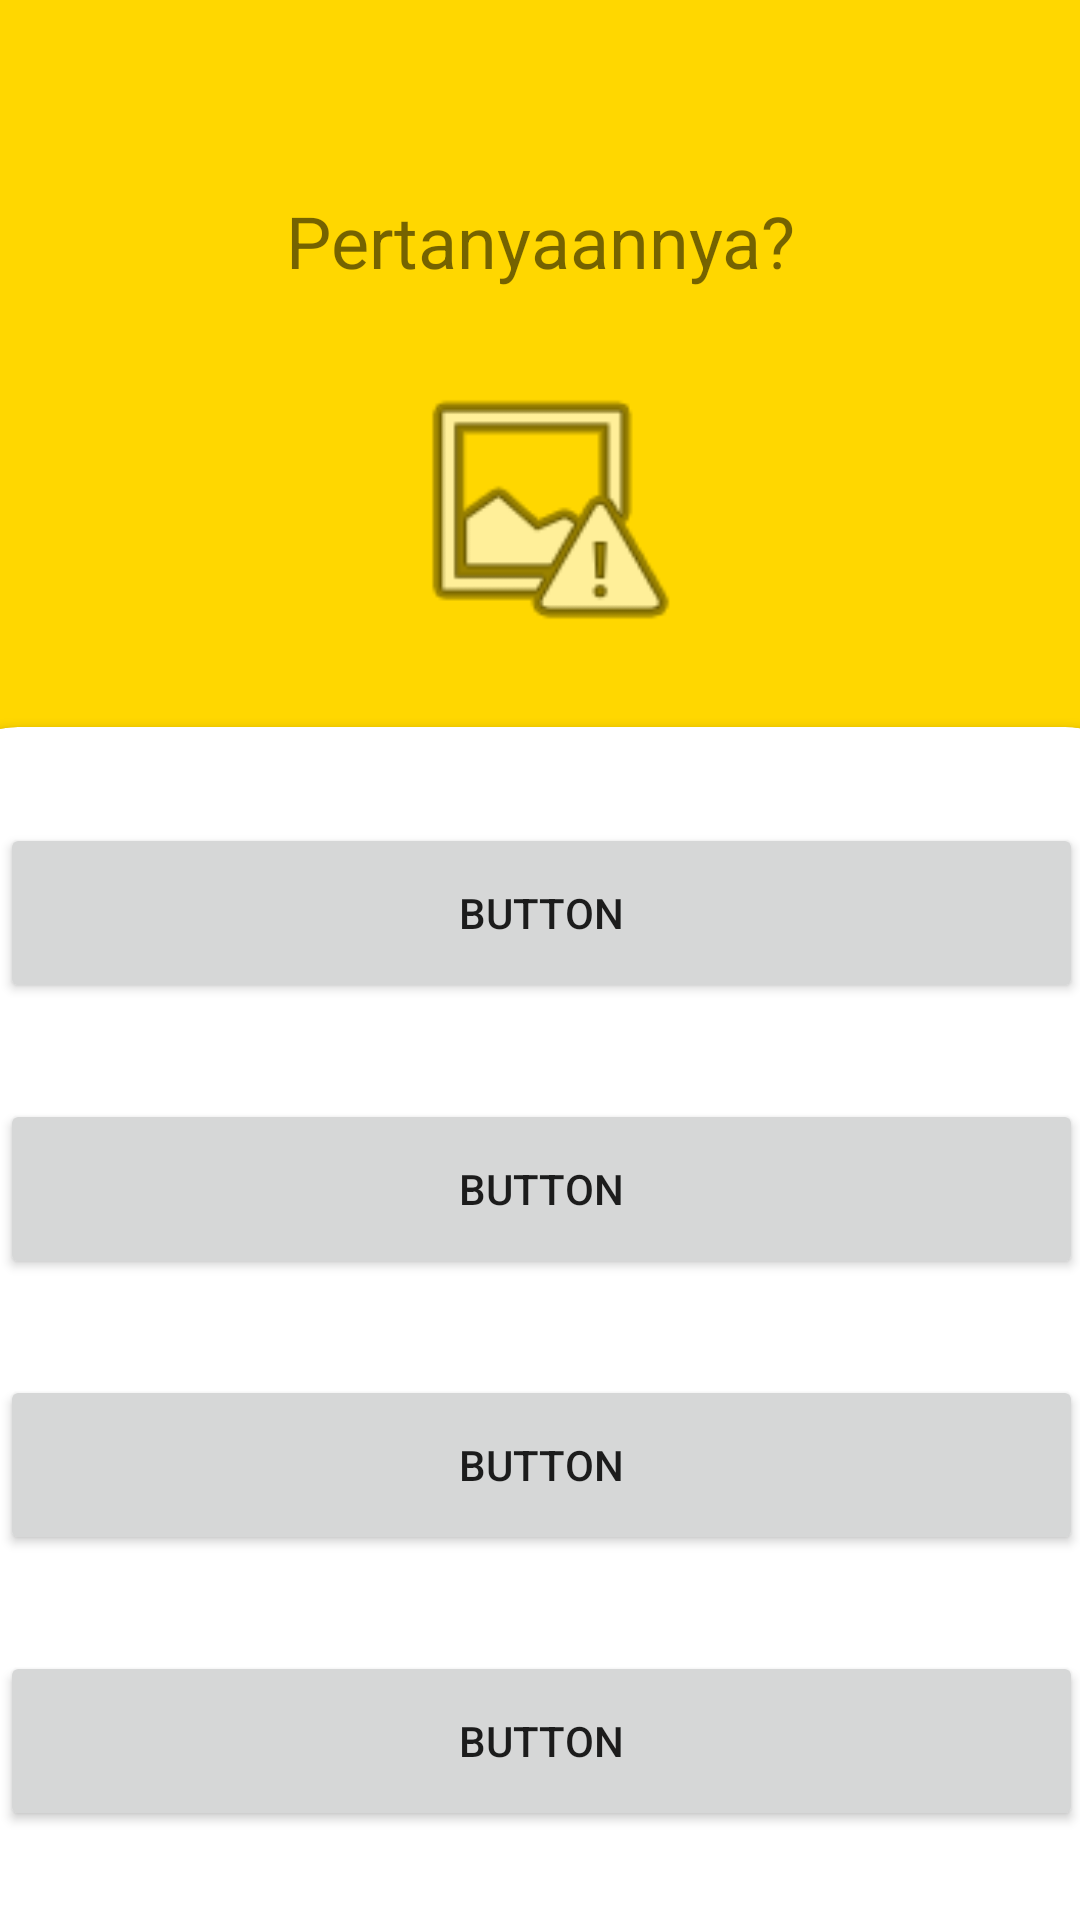

Icons on this 1080 x 1920 Android screen, each with the point to tap as (x,y):
gallery: (550,510)
